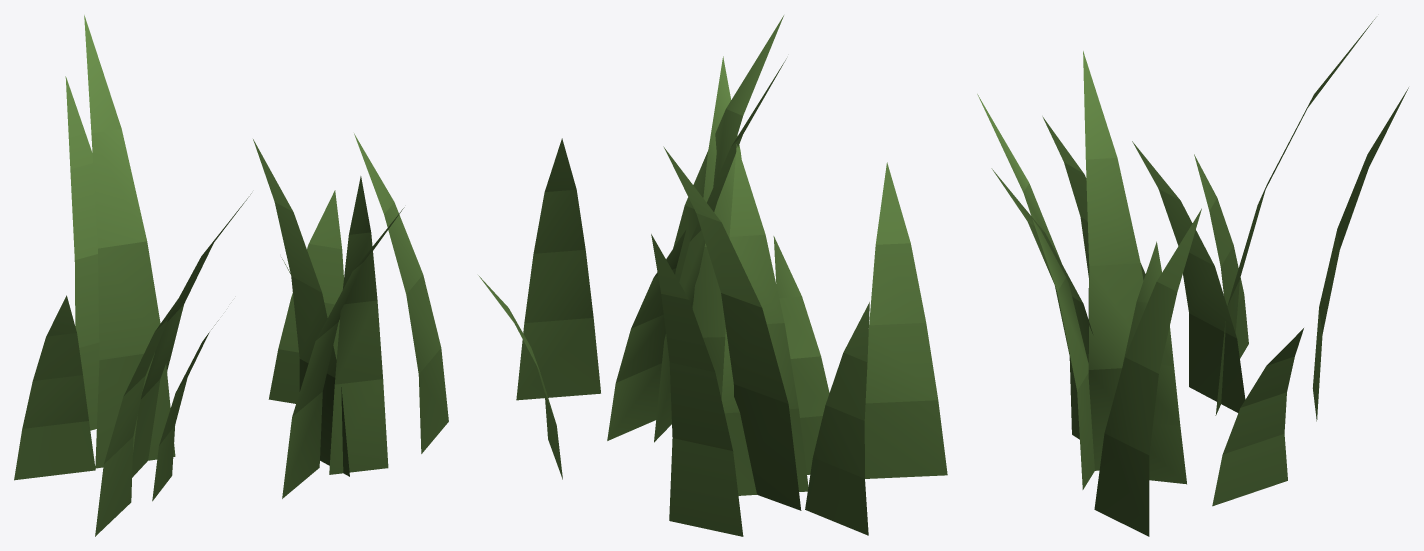
The model's file is hierba_2.glb.
The picture shows the model from 3 angles, left to right: view 1: azimuth 30°, elevation 25°; view 2: azimuth 150°, elevation 25°; view 3: azimuth 270°, elevation 25°; orthographic projection. The views are drawn at different scales.
Parts seen in each view (by area): view 1: propforge-libre-hierba; view 2: propforge-libre-hierba; view 3: propforge-libre-hierba.
Boxes of the visible parts, x1=… form: propforge-libre-hierba: x1=14, y1=15, x2=448, y2=536; propforge-libre-hierba: x1=478, y1=15, x2=947, y2=536; propforge-libre-hierba: x1=977, y1=18, x2=1408, y2=536.
Bounding box in the file's own units: 0.2433 × 0.2331 × 0.2309.
